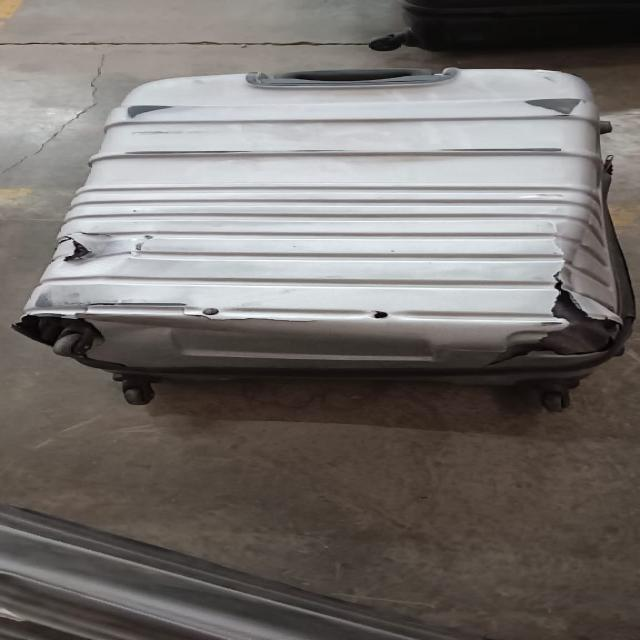Damage-bag: (11, 160, 636, 411), (53, 232, 122, 264)
